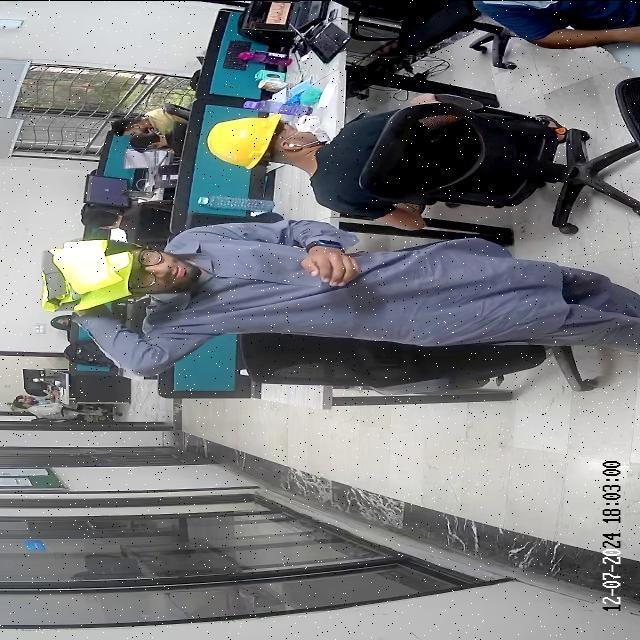no_apron: (301, 242, 363, 288)
no_hairnet: (153, 246, 184, 292)
